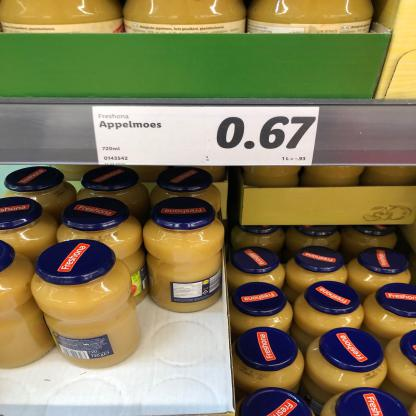prtg: (92, 108, 321, 167)
